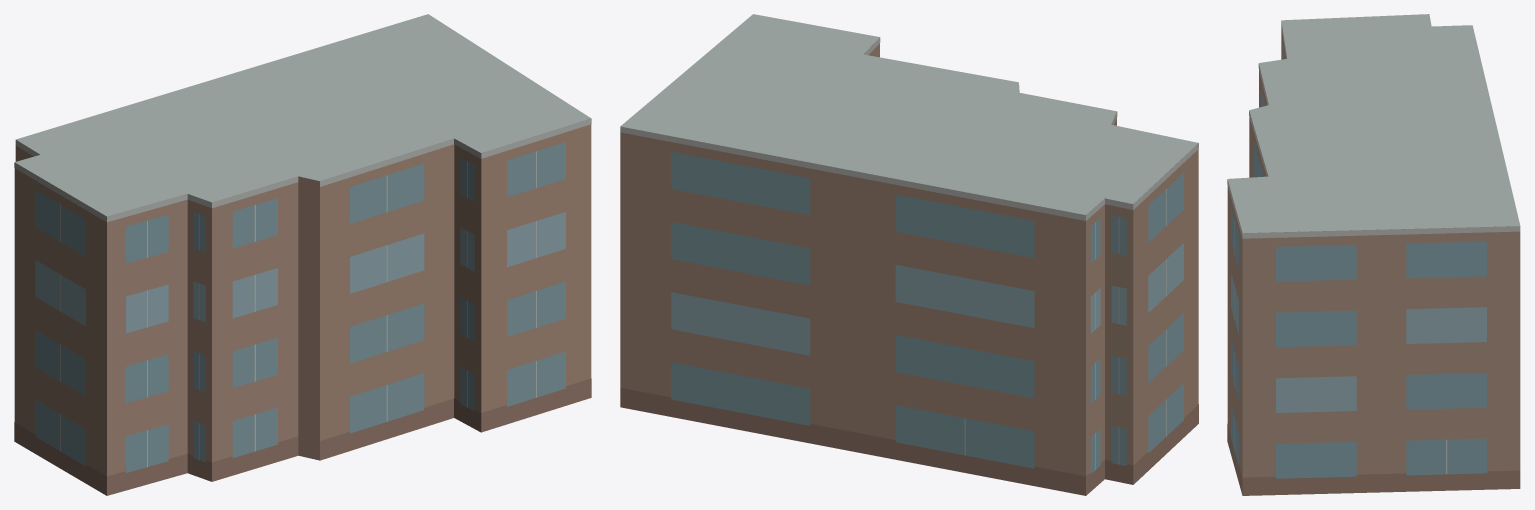
File: survey-upis-32629462.glb
The picture shows the model from 3 angles, left to right: view 1: azimuth 30°, elevation 25°; view 2: azimuth 150°, elevation 25°; view 3: azimuth 270°, elevation 25°; orthographic projection. The views are drawn at different scales.
Visible parts, largest first — view 1: survey-upis-32629462.tmp; view 2: survey-upis-32629462.tmp; view 3: survey-upis-32629462.tmp.
Part boxes in pixels (x1,y1,x2,y2): survey-upis-32629462.tmp: (14, 14, 591, 495); survey-upis-32629462.tmp: (620, 14, 1198, 495); survey-upis-32629462.tmp: (1227, 14, 1520, 495).
Bounding box in the file's own units: 20.94 × 11.7 × 11.84.
